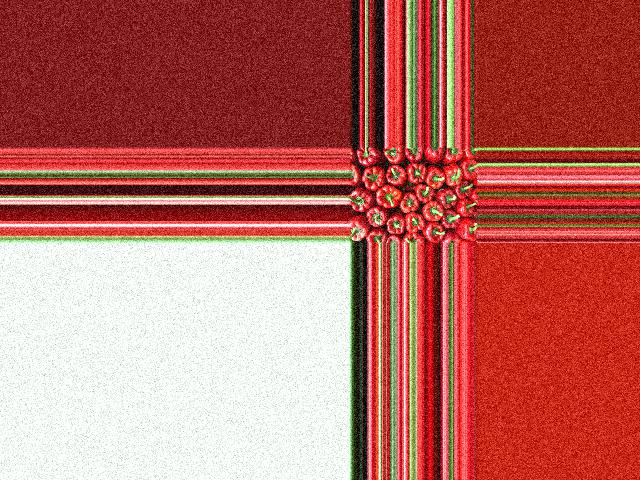bell_pepper: (456, 221, 476, 241)
